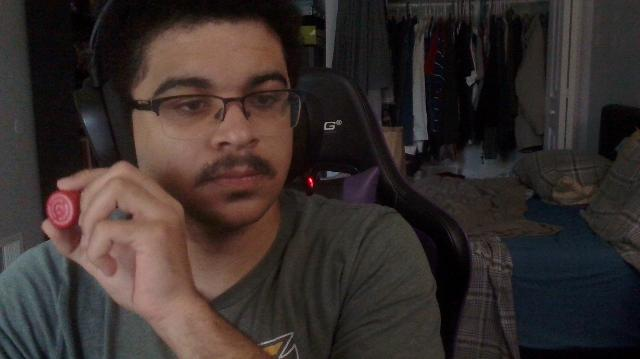cap: (47, 190, 79, 232)
